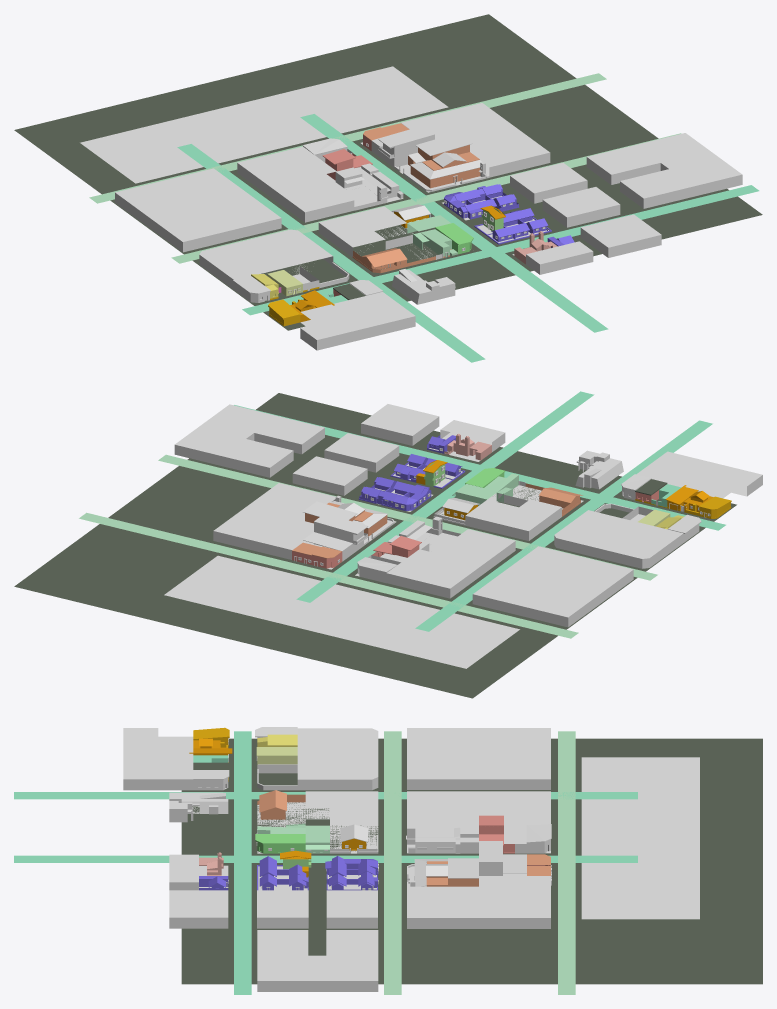
The model's file is Casas q me faltan jajasalu2.fbx.
3 views of the same model, one above another, from view 1: azimuth 30°, elevation 25°; view 2: azimuth 150°, elevation 25°; view 3: azimuth 270°, elevation 25° (orthographic). The views are drawn at different scales.
Visible parts, largest first — view 1: Piso, Plane.018, Plane.014, Plane.023, Plane.008, Plane.027, Cuadra1, Cuadra2, jugador plane.003, jugador plane.002, jugador plane, Plane.003 (+15 smaller); view 2: Piso, Plane.018, Plane.014, Plane.023, Plane.027, Plane.008, Cuadra2, jugador plane.004, jugador plane.003, Cuadra1, jugador plane.002, Plane.003 (+16 smaller); view 3: Piso, Plane.018, Plane.014, Plane.023, Plane.027, Cuadra2, jugador plane, jugador plane.001, jugador plane.004, Plane.008, Cuadra1, jugador plane.003 (+24 smaller).
Boxes of the visible parts, x1,y1,x2,y2 form: Piso: (14,14,762,330); Plane.018: (80,66,448,183); Plane.014: (115,168,281,252); Plane.023: (586,133,742,208); Plane.008: (237,146,354,222); Plane.027: (401,103,550,177); Cuadra1: (300,292,415,350); Cuadra2: (199,229,333,290); jugador plane.003: (300,114,608,332); jugador plane.002: (177,144,485,362); jugador plane: (242,185,759,315); Plane.003: (318,206,412,257); Piso: (14,393,736,698); Plane.018: (164,555,519,668); Plane.014: (472,546,633,627); Plane.023: (174,404,324,477); Plane.027: (213,483,335,559); Plane.008: (386,529,515,598); Cuadra2: (554,510,683,568); jugador plane.004: (79,512,578,638); jugador plane.003: (296,391,594,602); Cuadra1: (636,451,762,498); jugador plane.002: (415,420,712,631); Plane.003: (465,493,561,540); Piso: (181,738,762,984); Plane.018: (581,757,699,919); Plane.014: (407,728,550,789); Plane.023: (257,930,378,991); Plane.027: (407,876,550,928); Cuadra2: (297,728,378,790); jugador plane: (234,731,251,994); jugador plane.001: (384,731,401,994); jugador plane.004: (558,731,575,994); Plane.008: (407,791,550,836); Cuadra1: (123,728,193,790); jugador plane.003: (14,855,637,862).
Size of the model in its own units: 116906 by 5217 by 140309.
